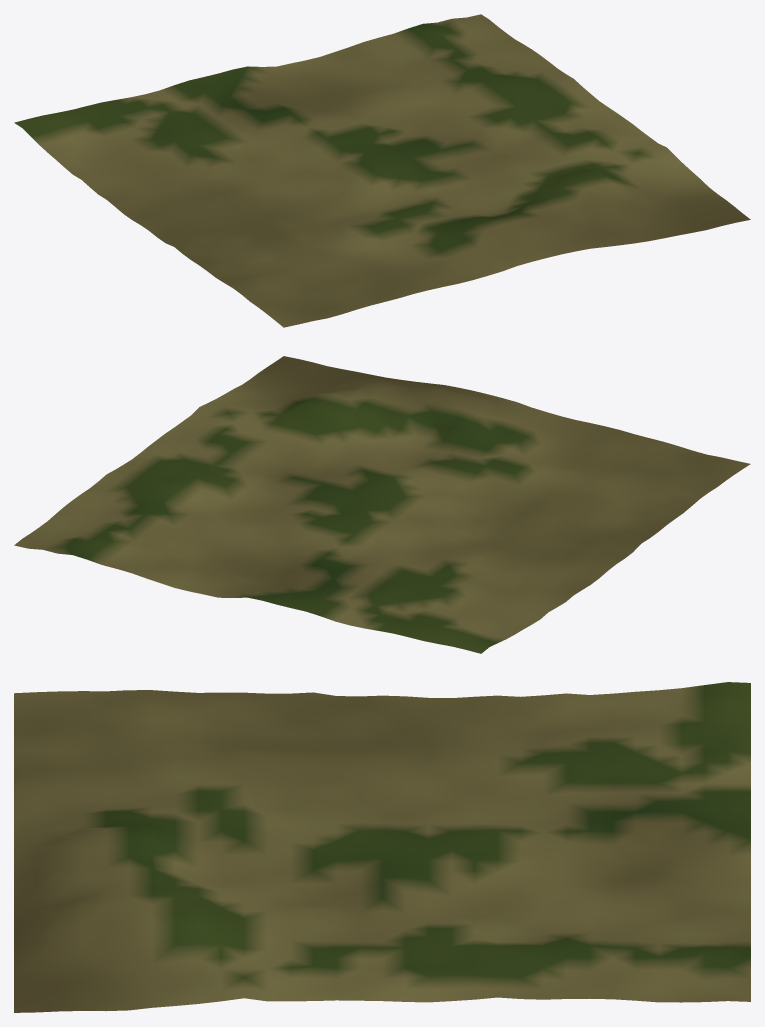
Rendered from terrain_lod0_-1_2.obj.
3 renders of one model, top to bottom at view 1: azimuth 30°, elevation 25°; view 2: azimuth 150°, elevation 25°; view 3: azimuth 270°, elevation 25°, orthographic. The views are drawn at different scales.
Parts seen in each view (by area): view 1: terrain_lod0_-1_2; view 2: terrain_lod0_-1_2; view 3: terrain_lod0_-1_2.
Part boxes in pixels (left/top/right/bottom): terrain_lod0_-1_2: left=14, top=14, right=750, bottom=327; terrain_lod0_-1_2: left=14, top=356, right=750, bottom=653; terrain_lod0_-1_2: left=14, top=682, right=750, bottom=1012.
Bounding box in the file's own units: 128 × 5.97 × 128.
